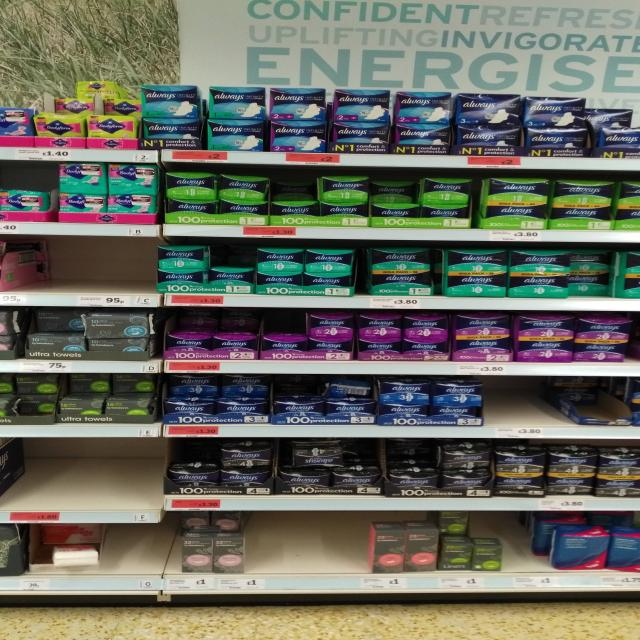100- O.O.S: (26, 442, 159, 522), (248, 517, 362, 591), (52, 238, 154, 306), (108, 525, 173, 590), (489, 378, 547, 438), (501, 522, 531, 589)
